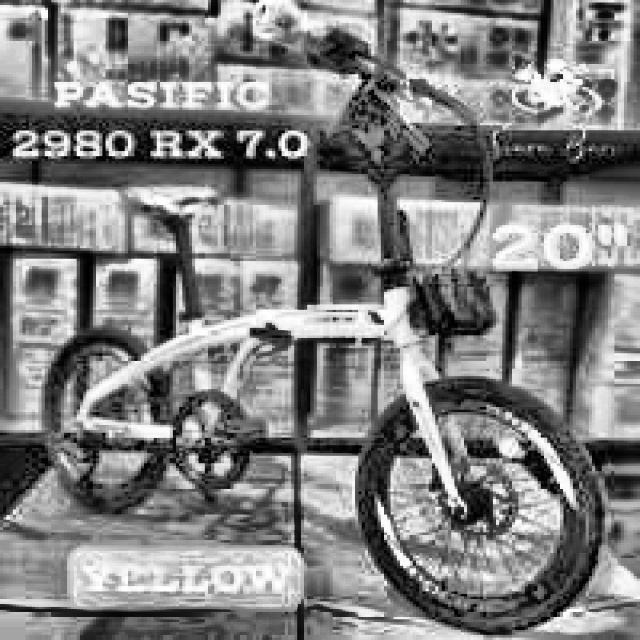bike: (47, 0, 603, 633)
